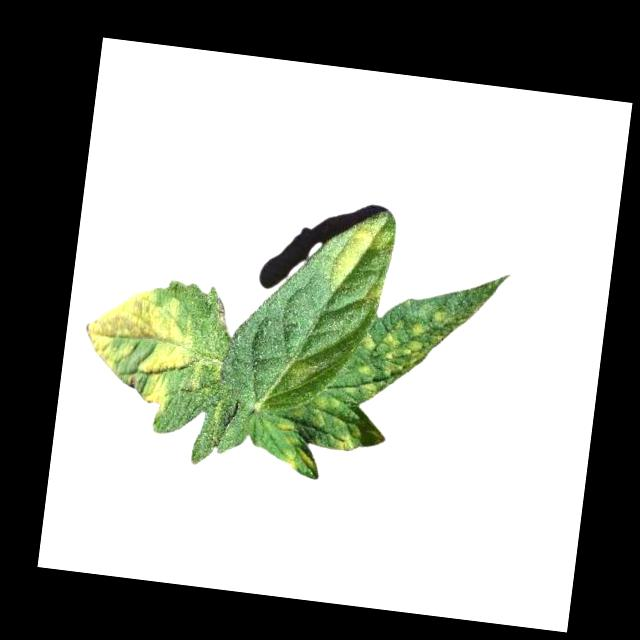Leaf_Mold: (75, 281, 213, 420), (348, 298, 469, 412), (326, 215, 395, 305), (268, 421, 325, 480), (330, 417, 367, 454)
